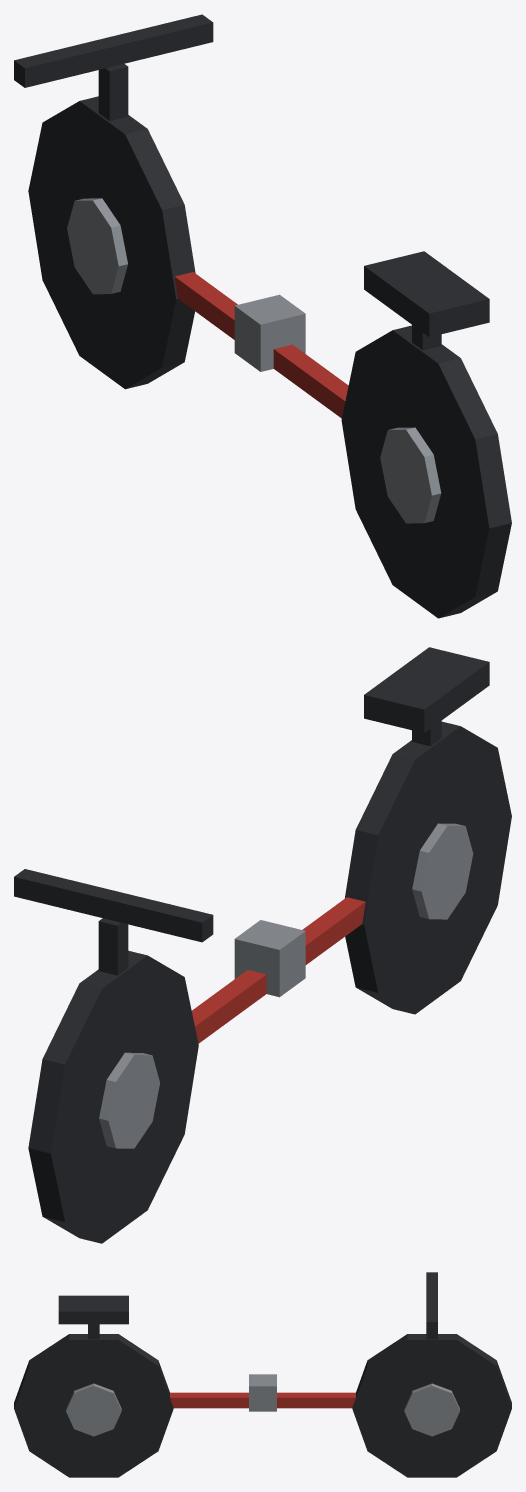
Rendered from vehicle.bicycle.glb.
3 renders of one model, top to bottom at view 1: azimuth 30°, elevation 25°; view 2: azimuth 150°, elevation 25°; view 3: azimuth 270°, elevation 25°, orthographic. The views are drawn at different scales.
Visible parts, largest first — view 1: vehicle.bicycle; view 2: vehicle.bicycle; view 3: vehicle.bicycle.
Part boxes in pixels (x1,y1,x2,y2): vehicle.bicycle: (14,14,511,618); vehicle.bicycle: (14,647,511,1243); vehicle.bicycle: (14,1272,511,1477).
Size of the model in its own units: 0.5 by 0.8334 by 2.12.
